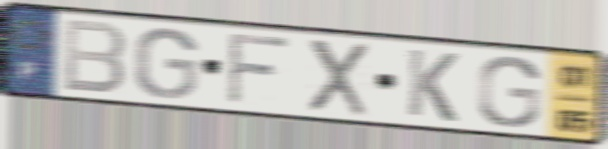B: (60, 17, 129, 97)
F: (224, 30, 293, 108)
G: (130, 25, 201, 101), (475, 54, 543, 130)
K: (404, 45, 461, 125)
X: (305, 36, 370, 119)
